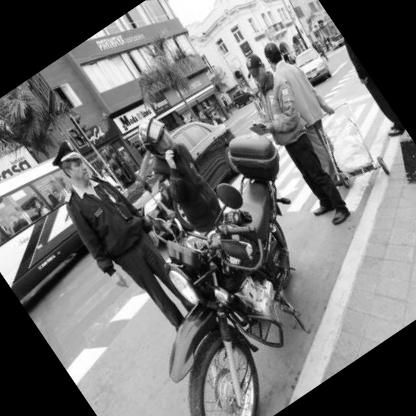moto: (33, 105, 413, 416)
